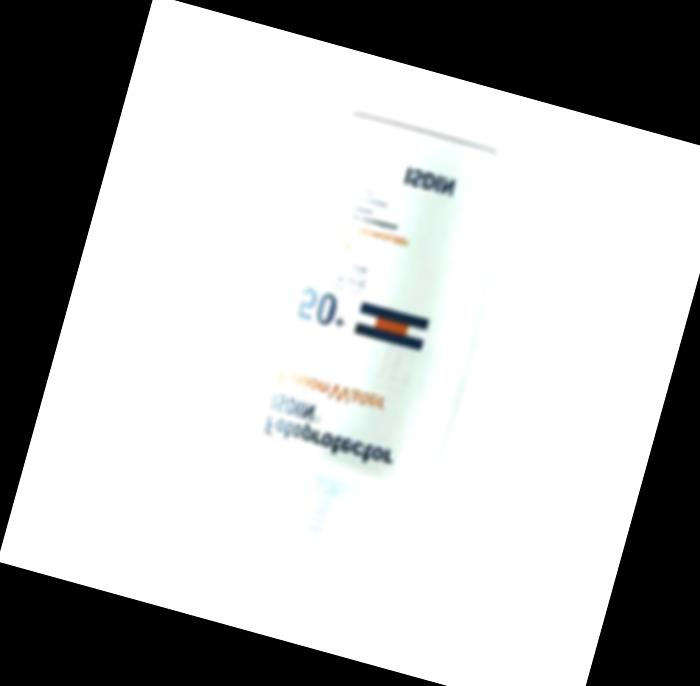cosmetic: (204, 101, 528, 605)
